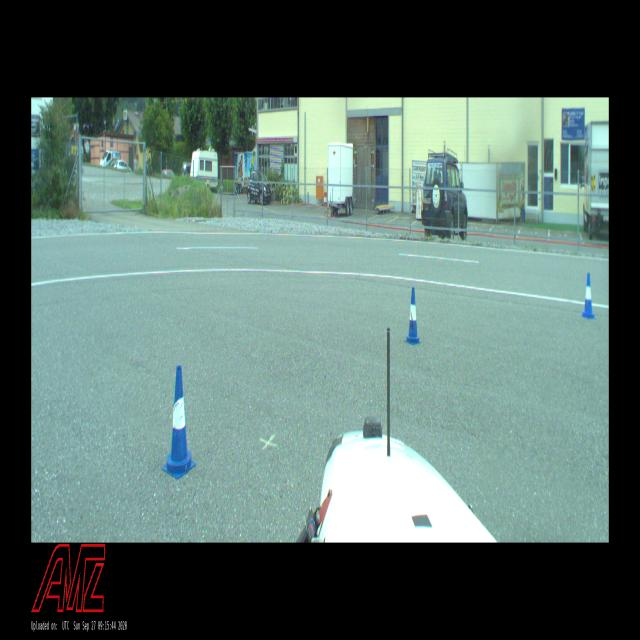blue_cone: (162, 364, 195, 480), (404, 287, 421, 345), (582, 272, 595, 320)
